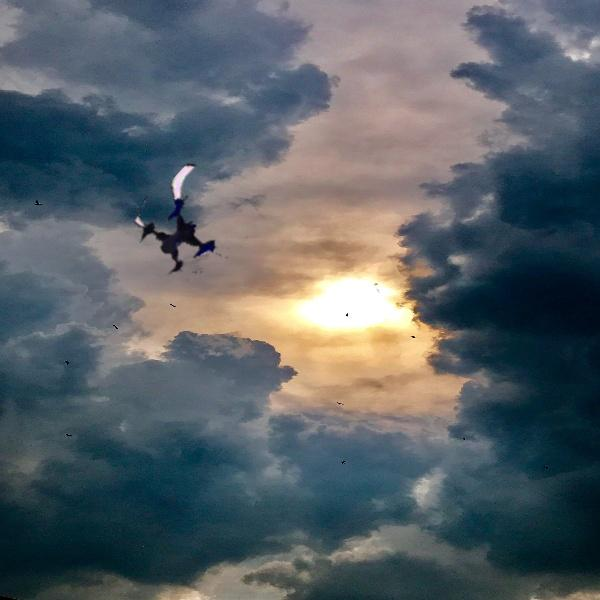drone: (132, 170, 250, 288)
